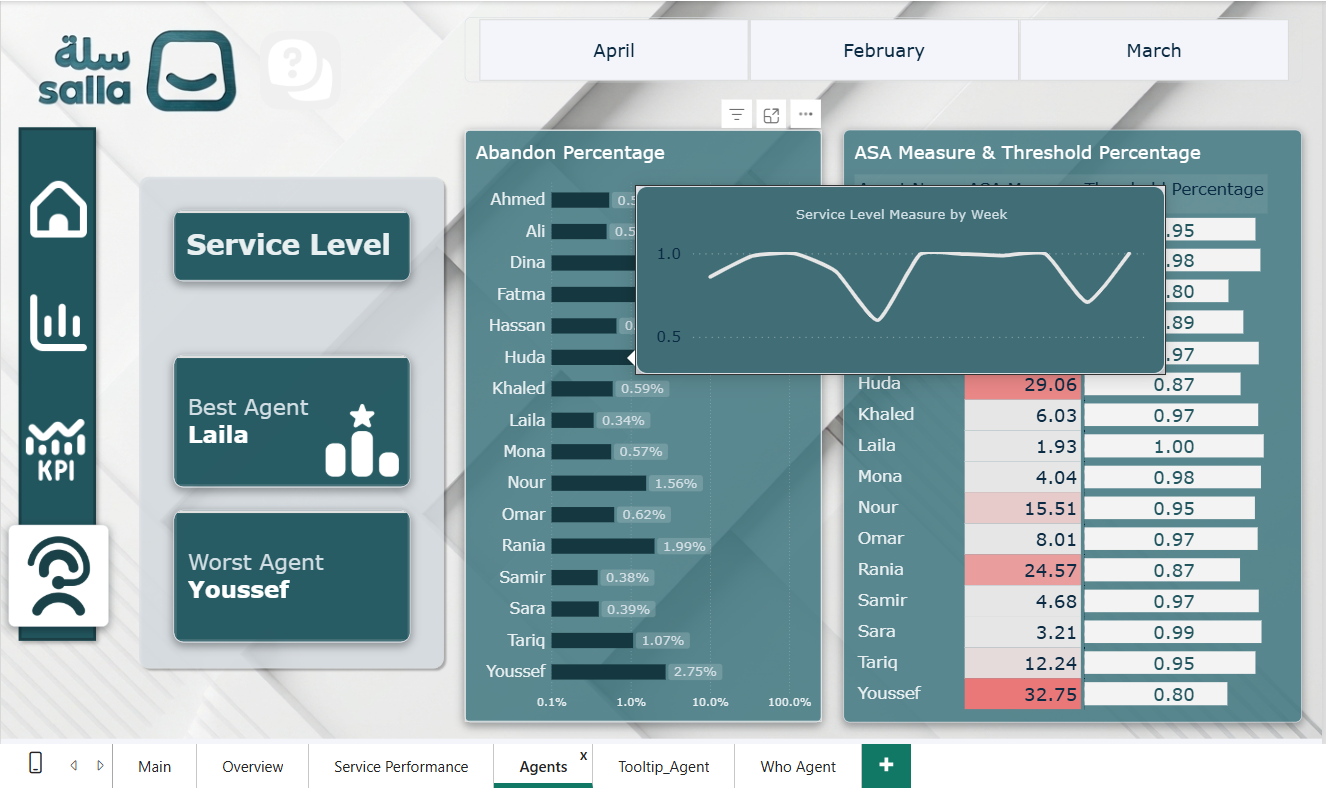

The page's visual inventory and layout, read from the dashboard file:
{"tool":"powerbi","page":{"name":"Agents","canvas":[1920,1080],"ordinal":3},"visuals":[{"type":"shape","box":[178.4,232.3,487.4,759],"z":0},{"type":"shape","box":[0,158.3,163.4,796.6],"z":1000},{"type":"shape","box":[10.9,760.8,145.5,148.1],"z":2000},{"type":"image","box":[28.1,408.5,112.3,117.4],"z":3000},{"type":"image","box":[15.3,592.3,132.8,120],"z":4000},{"type":"image","box":[10.9,760.8,145.3,148.9],"z":5000},{"type":"image","box":[27.2,232.4,112.6,139.8],"z":6000},{"type":"cardVisual","fields":{"Data":["Min(Sallah Project.Agent Name)"]},"box":[250.9,514.3,344.3,192.9],"z":7000},{"type":"cardVisual","fields":{"Data":["Min(Sallah Project.Agent Name)"]},"box":[250.9,738.3,344.3,192.9],"z":8000},{"type":"slicer","fields":{"Values":["Sallah Project.Month"]},"box":[673.6,23.6,1216.5,94.4],"z":9000},{"type":"clusteredBarChart","title":"Abandon Percentage","fields":{"Category":["Sallah Project.Agent Name"],"Y":["Sallah Project.Abandon Percentage"]},"box":[674,186.7,518.5,860.7],"z":10000},{"type":"pivotTable","title":"ASA Measure & Threshold Percentage","fields":{"Rows":["Sallah Project.Agent Name"],"Values":["Sallah Project.ASA Measure","Sallah Project.Threshold Percentage"]},"box":[1223.6,186.7,665.7,860.7],"z":11000},{"type":"cardVisual","fields":{"Data":["Min(Sallah Project.Agent Name)"]},"box":[250.9,302.8,344.3,103.7],"z":12000},{"type":"image","box":[453.9,570.1,141.6,136.2],"z":13000},{"type":"actionButton","box":[375.9,43.6,118,114.4],"z":15000}]}

Visuals, with their boxes on the page's 1920x1080 design canvas (x1, y1, x2, y2). These are canvas units, not pixel positions in the 1326x788 screenshot, which may show the page scaled, cropped or inside an application window:
shape: 178:232:666:991
shape: 0:158:163:955
shape: 11:761:156:909
image: 28:408:140:526
image: 15:592:148:712
image: 11:761:156:910
image: 27:232:140:372
cardVisual - Min(Sallah Project.Agent Name): 251:514:595:707
cardVisual - Min(Sallah Project.Agent Name): 251:738:595:931
slicer - Sallah Project.Month: 674:24:1890:118
"Abandon Percentage" clusteredBarChart: 674:187:1192:1047
"ASA Measure & Threshold Percentage" pivotTable: 1224:187:1889:1047
cardVisual - Min(Sallah Project.Agent Name): 251:303:595:406
image: 454:570:596:706
actionButton: 376:44:494:158
